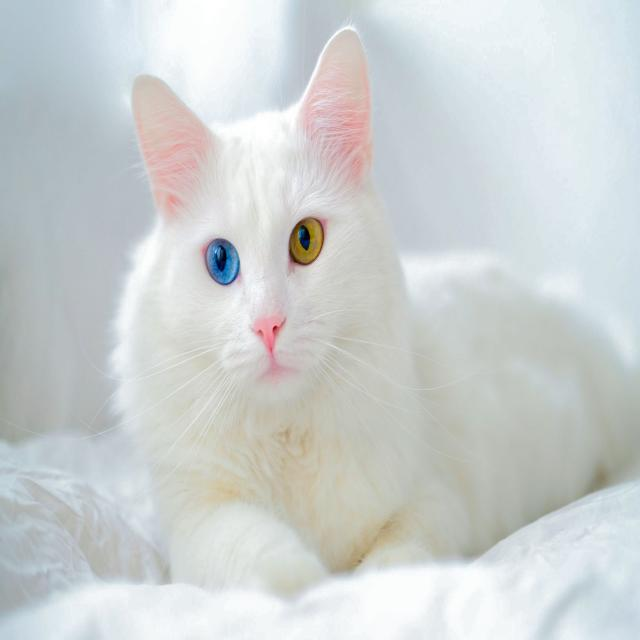cat: (98, 11, 637, 602)
